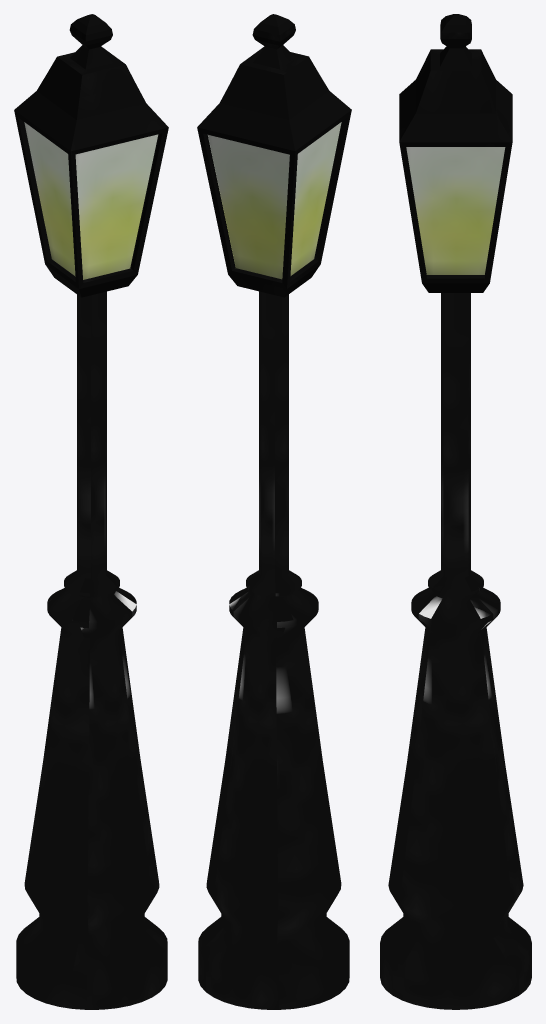
The model's file is Poste.obj.
3 views of the same model, side by side, from view 1: azimuth 30°, elevation 25°; view 2: azimuth 150°, elevation 25°; view 3: azimuth 270°, elevation 25° (orthographic).
Parts seen in each view (by area): view 1: Cylinder_Cylinder_002, Cube_Cube_008; view 2: Cylinder_Cylinder_002, Cube_Cube_008; view 3: Cylinder_Cylinder_002, Cube_Cube_008.
Part boxes in pixels (x1=…): Cylinder_Cylinder_002: x1=16, y1=291, x2=167, y2=1009; Cube_Cube_008: x1=14, y1=14, x2=168, y2=297; Cylinder_Cylinder_002: x1=198, y1=291, x2=349, y2=1009; Cube_Cube_008: x1=197, y1=14, x2=351, y2=297; Cylinder_Cylinder_002: x1=380, y1=293, x2=531, y2=1009; Cube_Cube_008: x1=399, y1=14, x2=512, y2=292.
Bounding box in the file's own units: 0.7874 × 5.51 × 0.7874.
